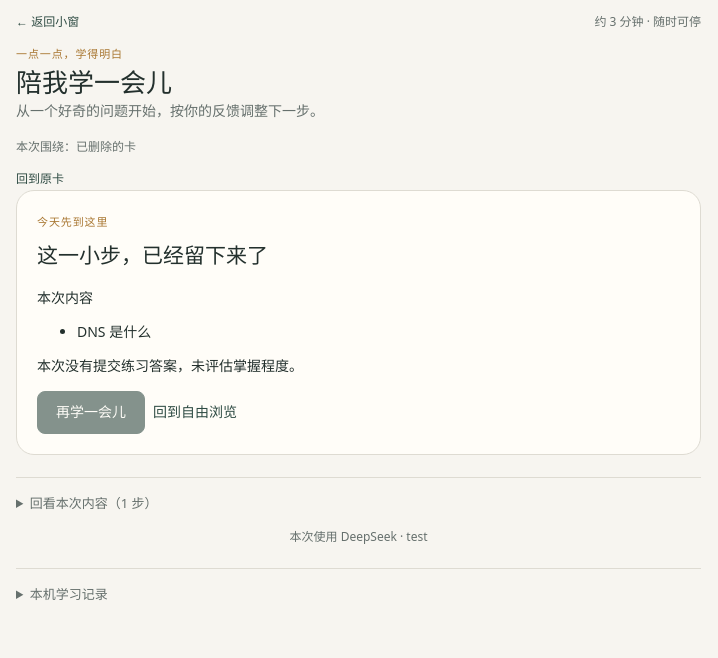
Scenario: keeps the saved lesson accessible when its source card has been deleted
Click the button "回到原卡". click: (40, 179)
box: x1=16 y1=167 x2=64 y2=190
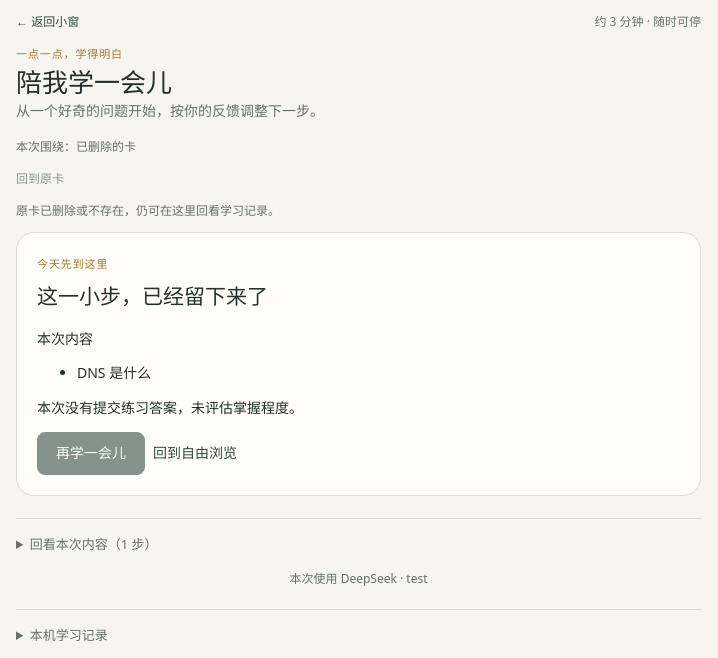
Expected: the element named "学习小结" is shown, x1=16 y1=232 x2=701 y2=496
Now the text "原卡已删除或不存在，仍可在这里回看学习记录。" is shown, box x1=16 y1=202 x2=280 y2=220
